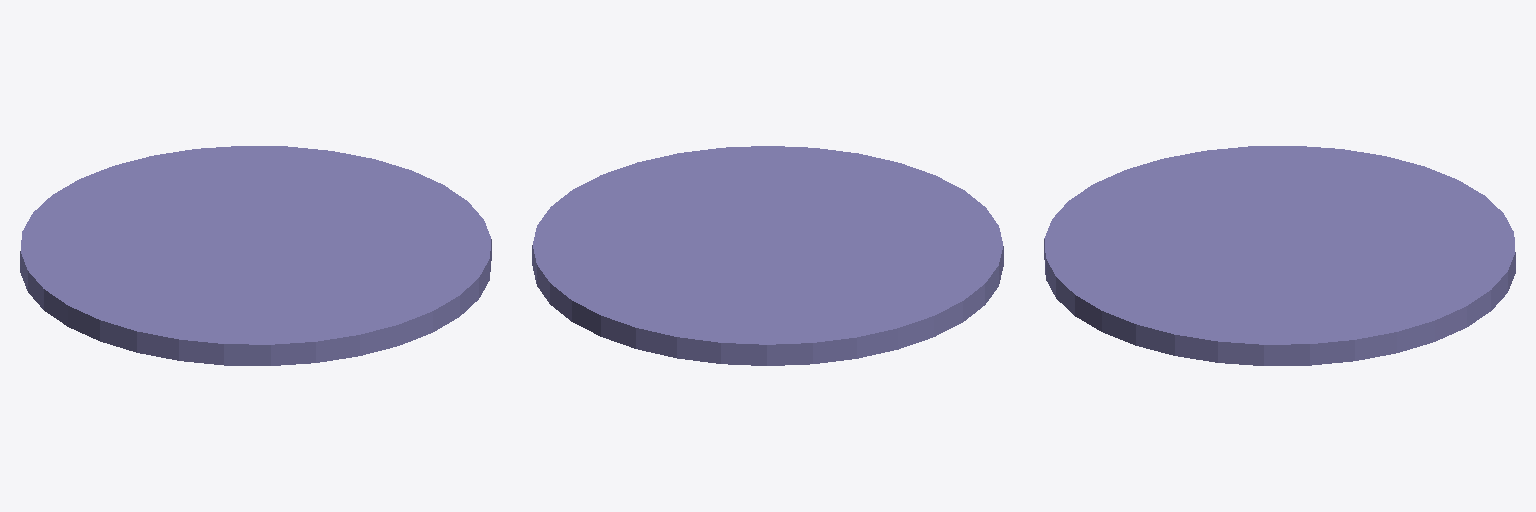
robot.urdf — Interference:
<?xml version="1.0"?>
<robot name="Interference">
  <link name="baseLink">
    <inertial>
      <origin xyz="0.0 0.0 0.0" rpy="0.0 0.0 0.0"/>
      <inertia ixx="0.0" ixy="0.0" ixz="0.0" iyy="0.0" iyz="0.0" izz="0.0"/>
      <mass value="0"/>
    </inertial>
    <visual>
      <origin xyz="0.0 0.0 0.0" rpy="0.0 0.0 -1.44371948441185"/>
      <geometry>
        <cylinder radius="0.09995388988737942" length="0.01"/>
      </geometry>
      <material name="color">
        <color rgba="0.5718651642373415 0.5602887950571817 0.7609425902073779 1.0"/>
      </material>
    </visual>
  </link>
</robot>

--- Facts derived from the render (not from the file) ---
3 views of the same robot in one strip: view 1: azimuth 30°, elevation 25°; view 2: azimuth 150°, elevation 25°; view 3: azimuth 270°, elevation 25° (orthographic).
Model Interference with 1 links and 0 joints (none), rooted at baseLink, posed all joints at 0.
Visible links, largest first — view 1: baseLink; view 2: baseLink; view 3: baseLink.
Link boxes in pixels (box(x1,y1,x2,y2)): baseLink: box(20, 146, 491, 365); baseLink: box(532, 146, 1003, 365); baseLink: box(1044, 146, 1515, 365).
Bounding box of the posed robot: 0.1994 × 0.1994 × 0.01 m (x, y, z).
Geometry: primitives only (box / cylinder / sphere), no mesh files.